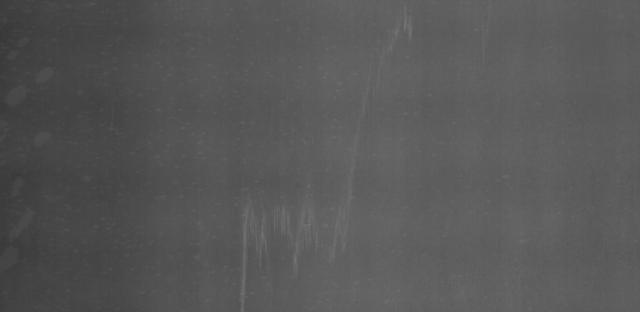silk_spot: (222, 153, 359, 279), (362, 14, 418, 81)
